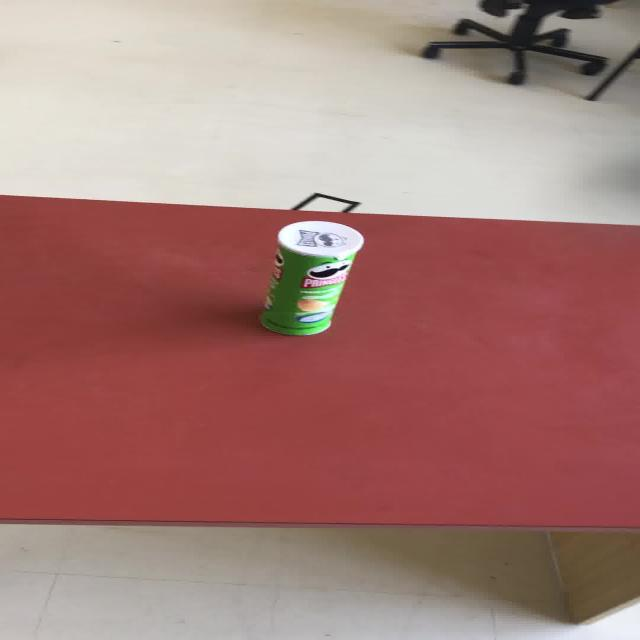pringles: (257, 219, 364, 336)
